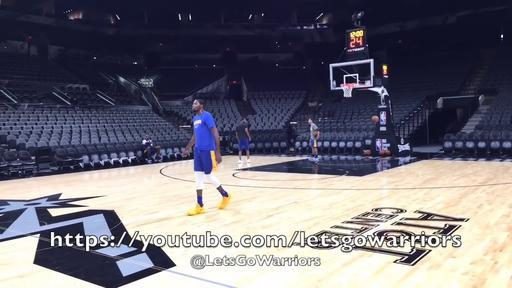ball: (380, 148, 387, 158), (371, 115, 379, 122)
human: (182, 98, 231, 216), (236, 117, 251, 164), (308, 118, 320, 162)
rim: (340, 84, 354, 96)
